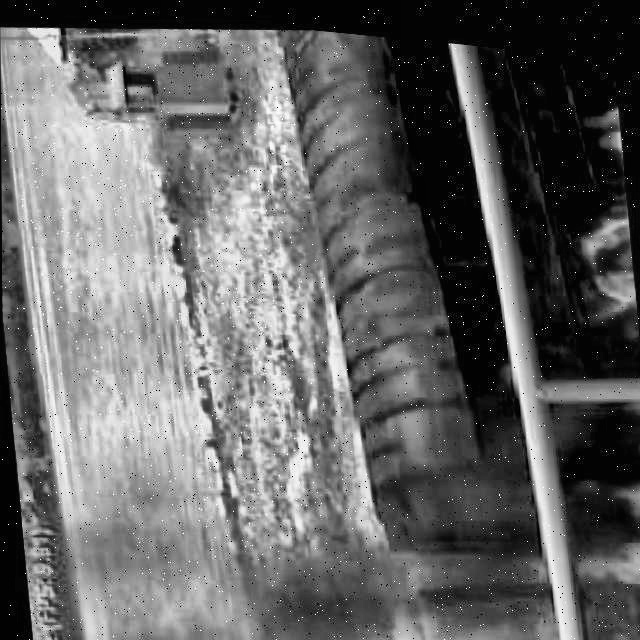Fire: (554, 383, 640, 575), (569, 86, 636, 306), (610, 585, 640, 640)
Smoke: (58, 435, 524, 640)
